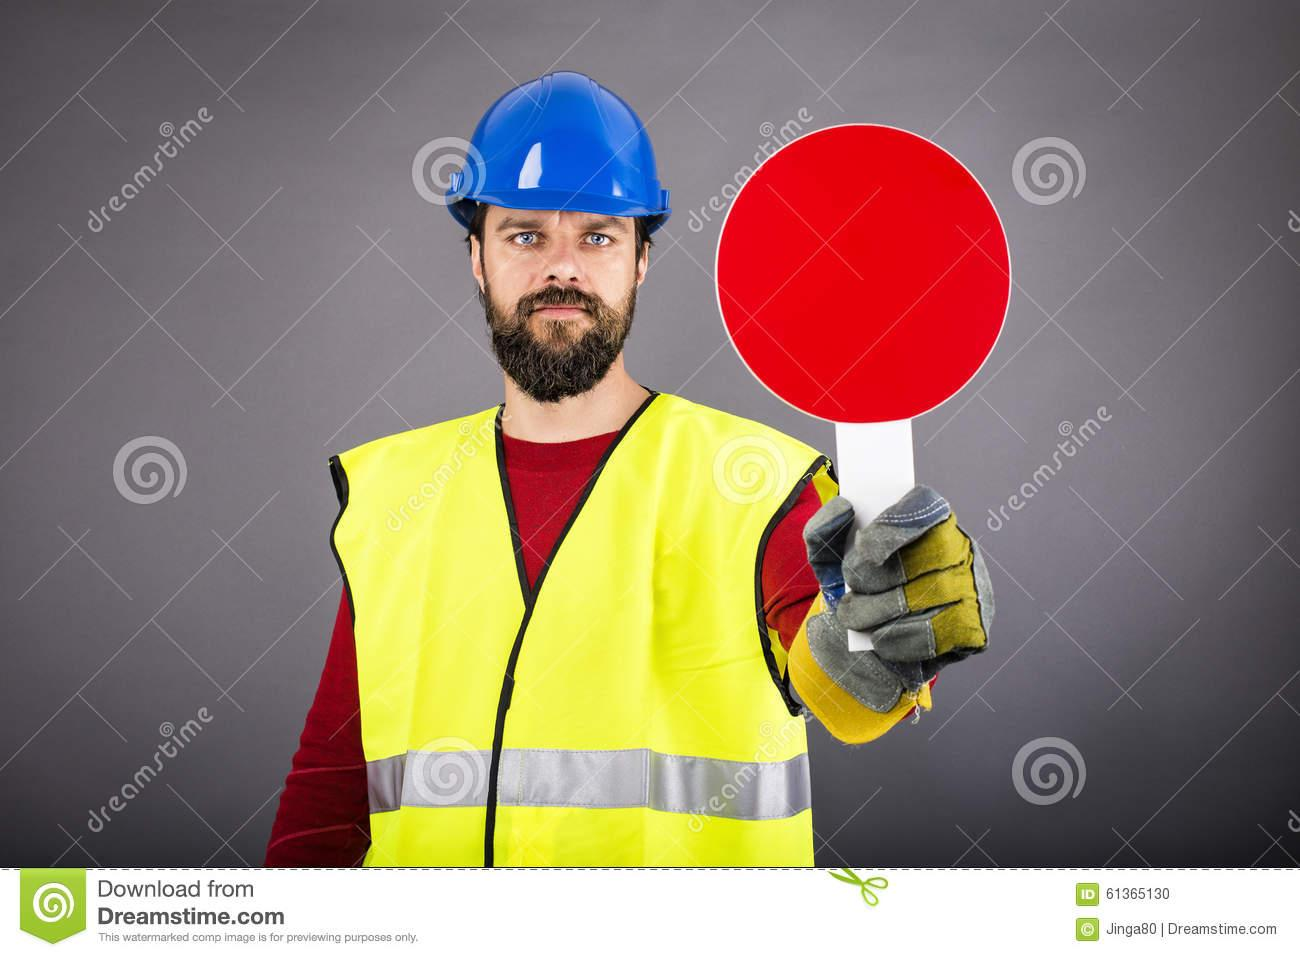helmet: (444, 67, 673, 229)
